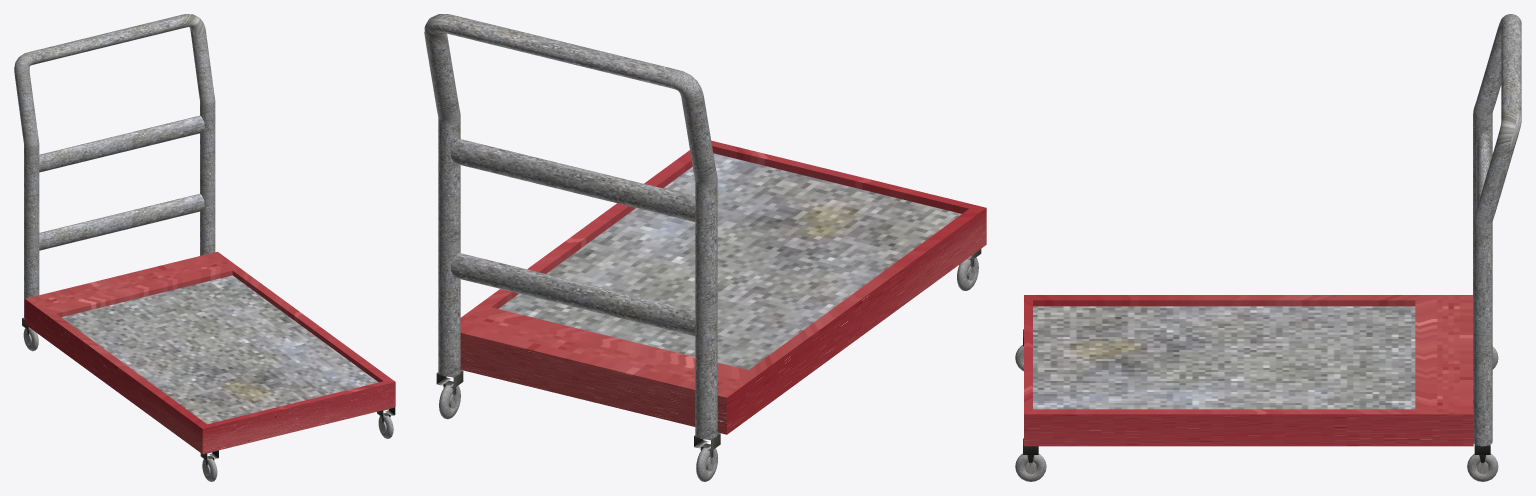
File: Trolley.fbx
3 views of the same model, side by side, from view 1: azimuth 30°, elevation 25°; view 2: azimuth 150°, elevation 25°; view 3: azimuth 270°, elevation 25° (orthographic). The views are drawn at different scales.
Parts seen in each view (by area): view 1: trolley; view 2: trolley; view 3: trolley.
Boxes of the visible parts, box(x1,y1,x2,y2) form: trolley: box(14, 14, 395, 481); trolley: box(424, 14, 986, 481); trolley: box(1015, 14, 1521, 481).
Bounding box in the file's own units: 4.22 × 5.98 × 7.57.
Materials: 5 (4 with a texture image).
